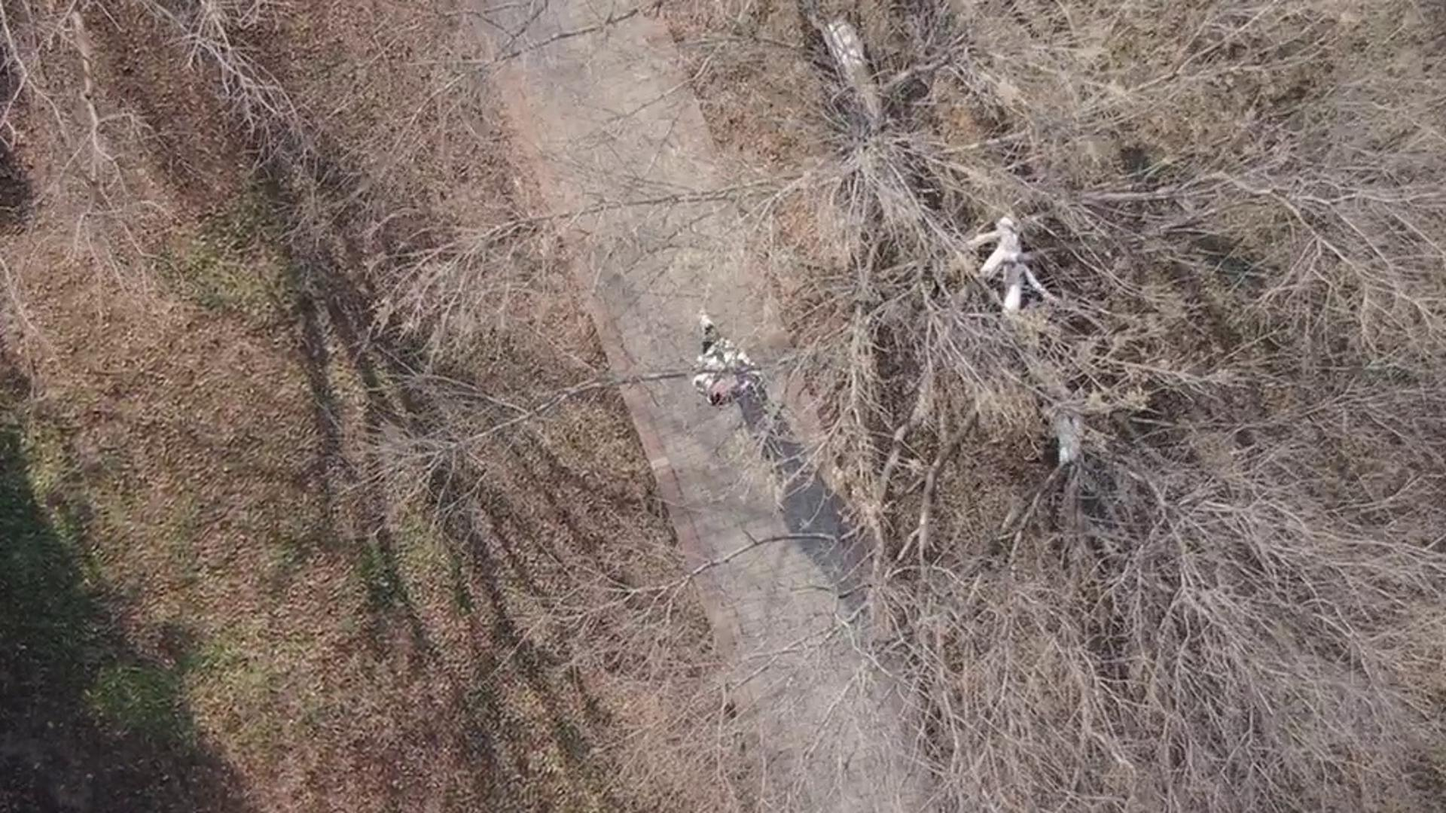human: (654, 322, 738, 422)
